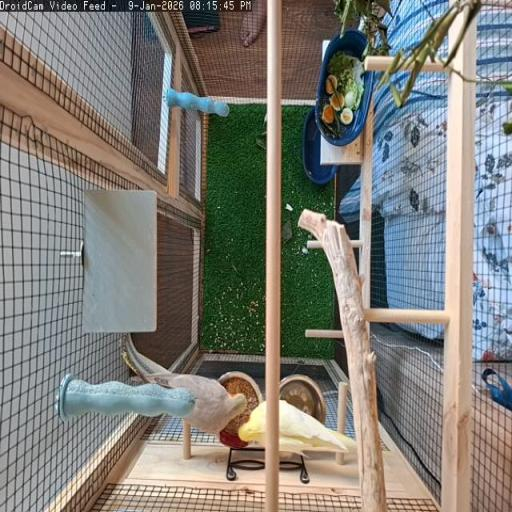bebedero: (280, 374, 325, 422)
comedero: (218, 371, 262, 445)
ninfa: (125, 338, 246, 435), (279, 400, 356, 451), (239, 401, 273, 448)
